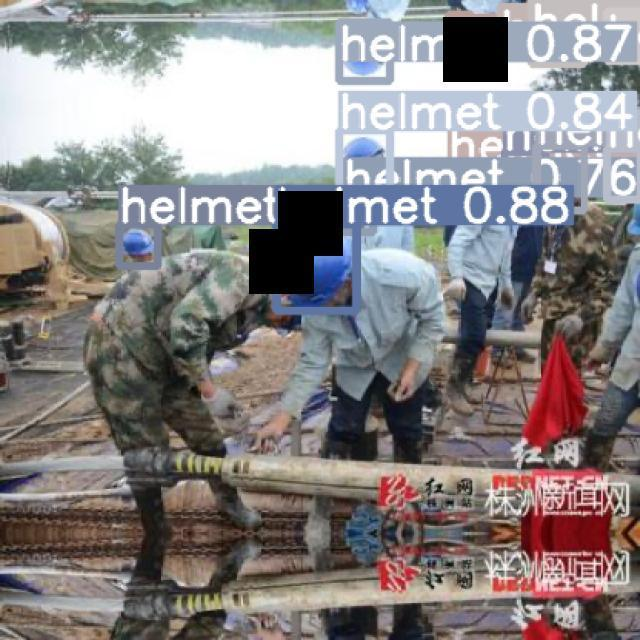helmet: (122, 228, 154, 256)
